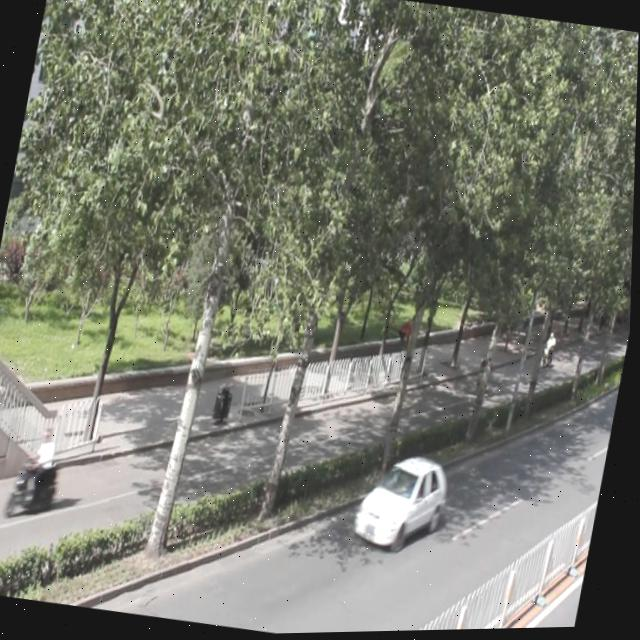car: (352, 448, 455, 555)
